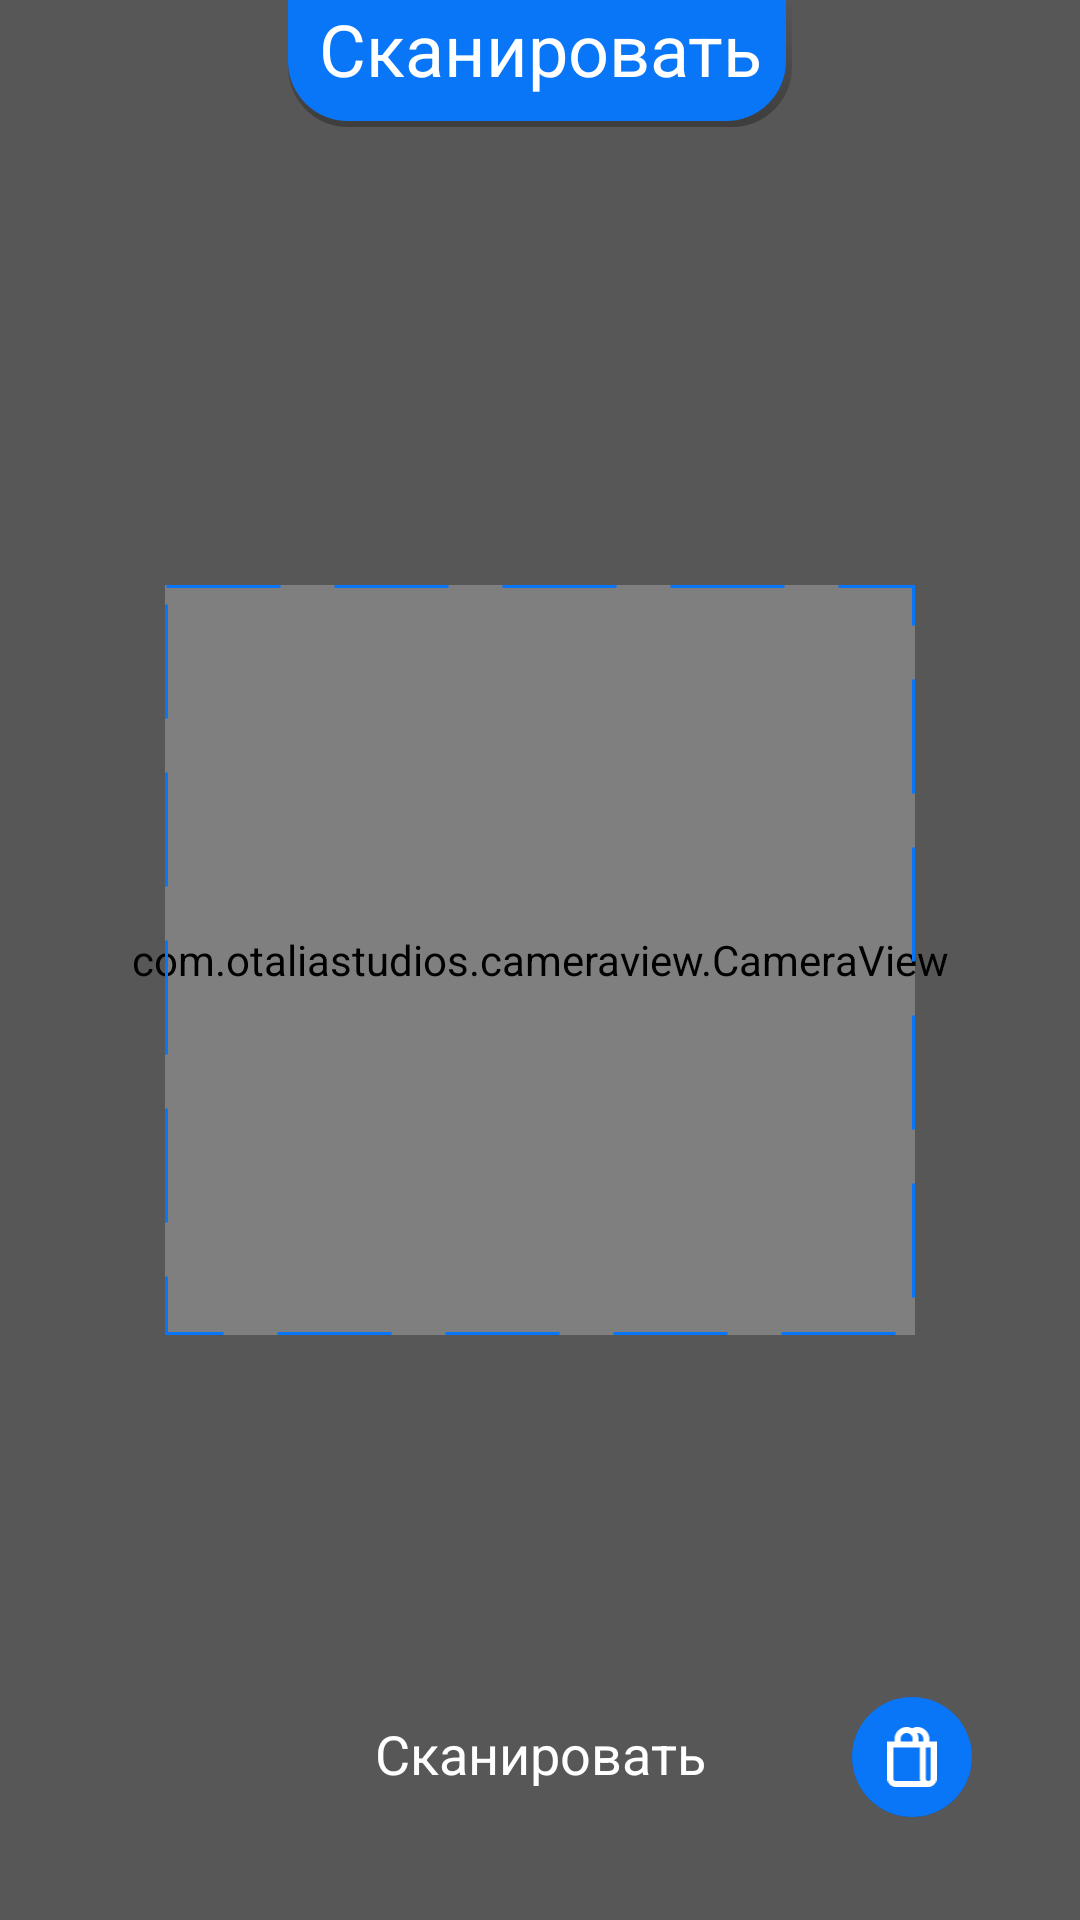

Icon click points for this 1080 × 1920 phone screenshot, format point (x, y):
shop: point (912, 1757)
